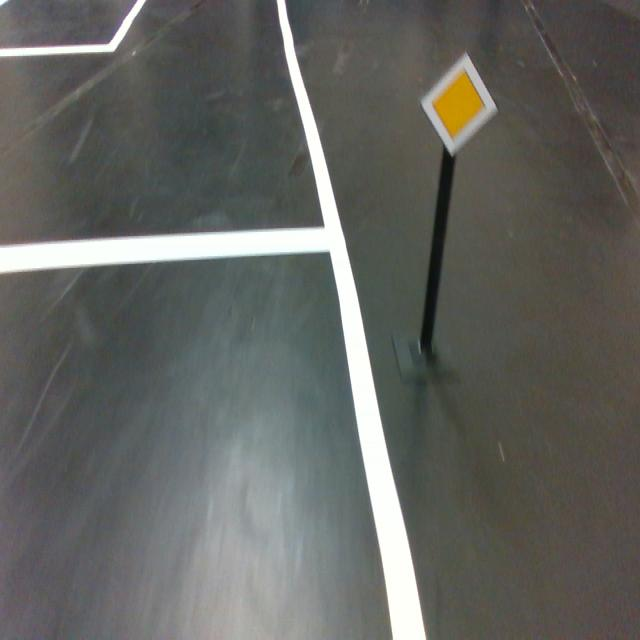priority-sign: (420, 49, 500, 158)
